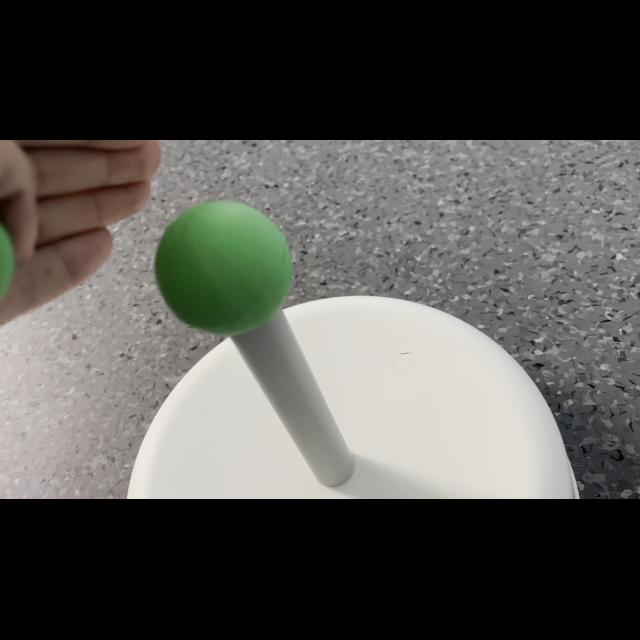objects: (153, 196, 294, 336)
